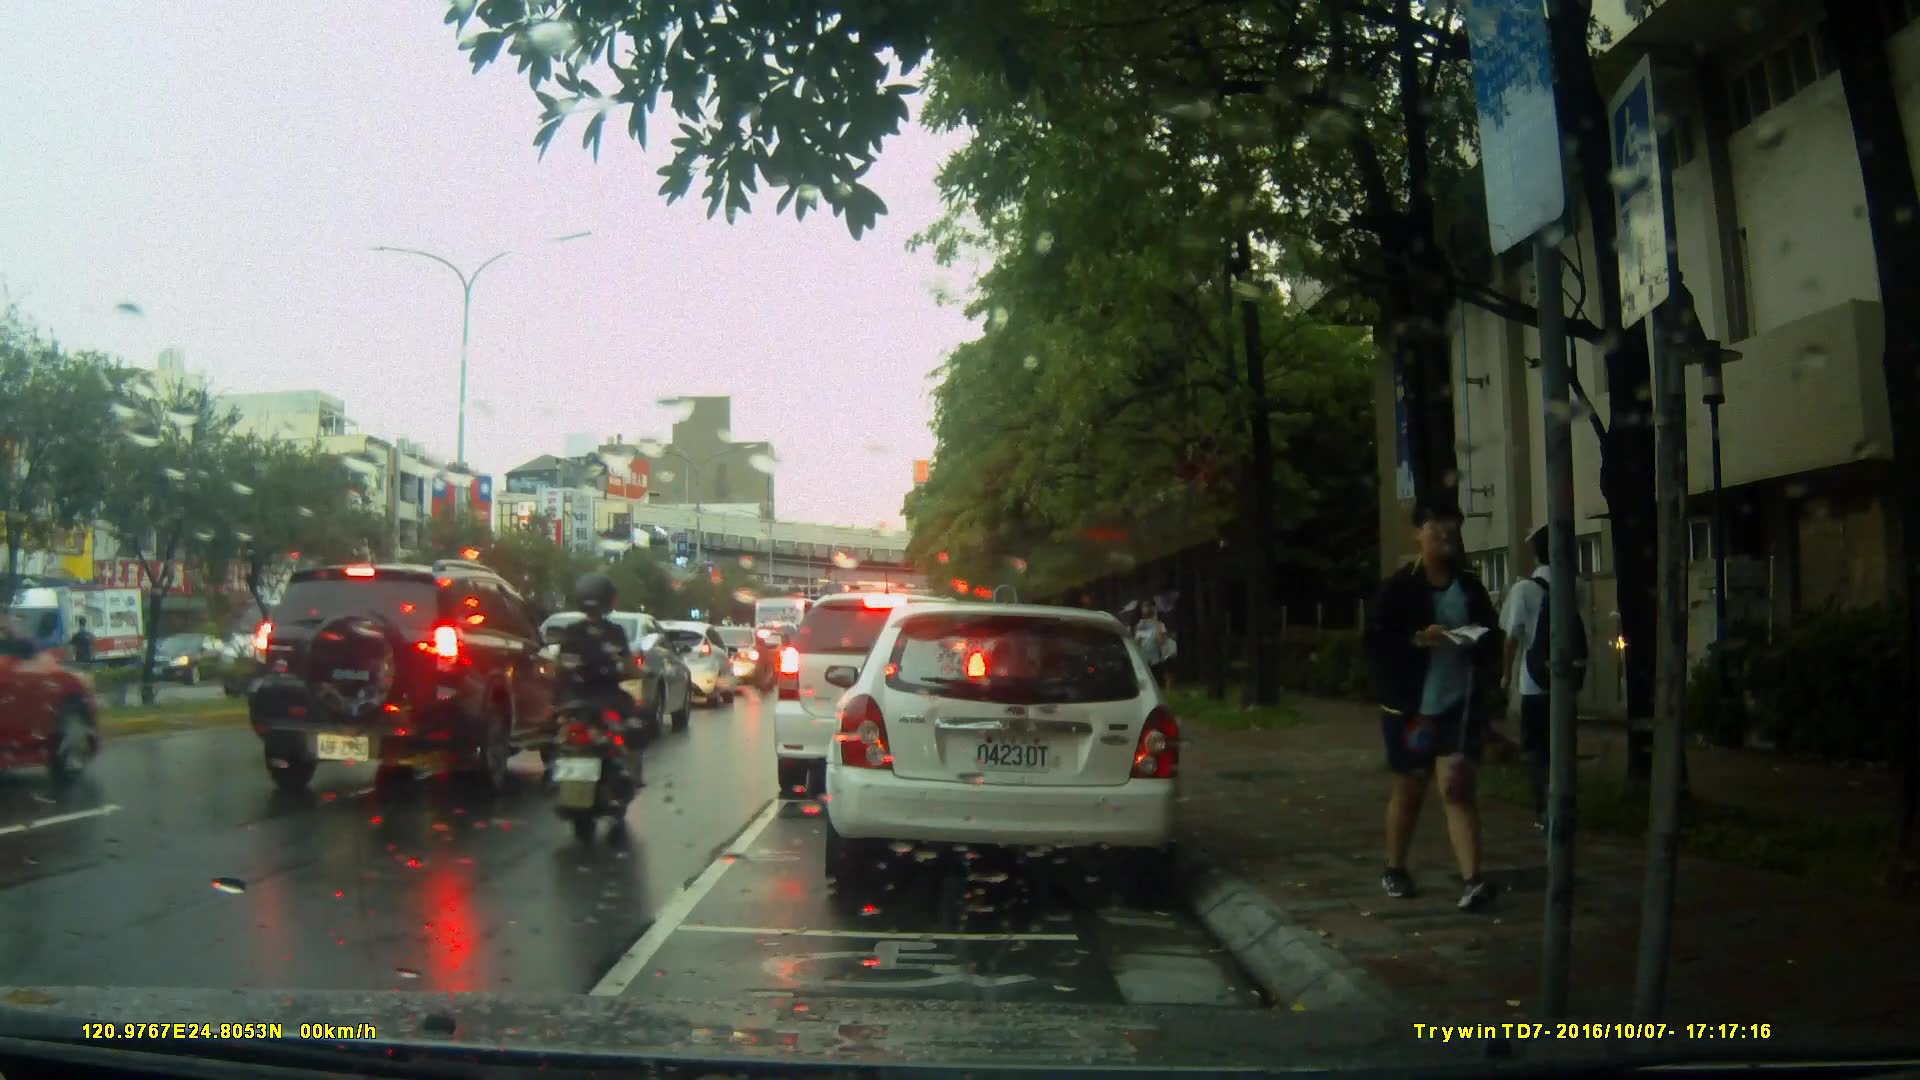pedestrian: (1365, 486, 1522, 915), (1510, 498, 1594, 833), (1125, 588, 1177, 730)
rider: (541, 568, 655, 837)
vehicle: (815, 593, 1200, 898), (240, 557, 580, 804), (771, 590, 995, 802), (507, 610, 691, 743), (1, 589, 106, 797), (1, 584, 150, 686), (696, 626, 767, 686)
